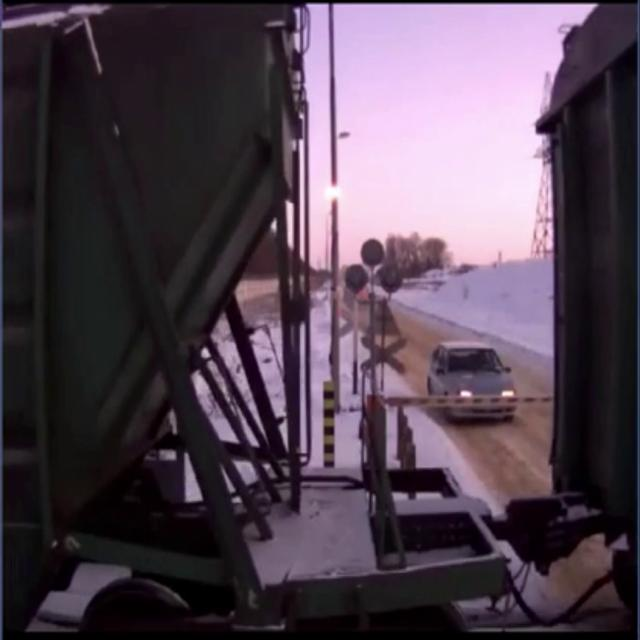boxcar: (522, 0, 640, 640)
hopper: (0, 0, 517, 640)
